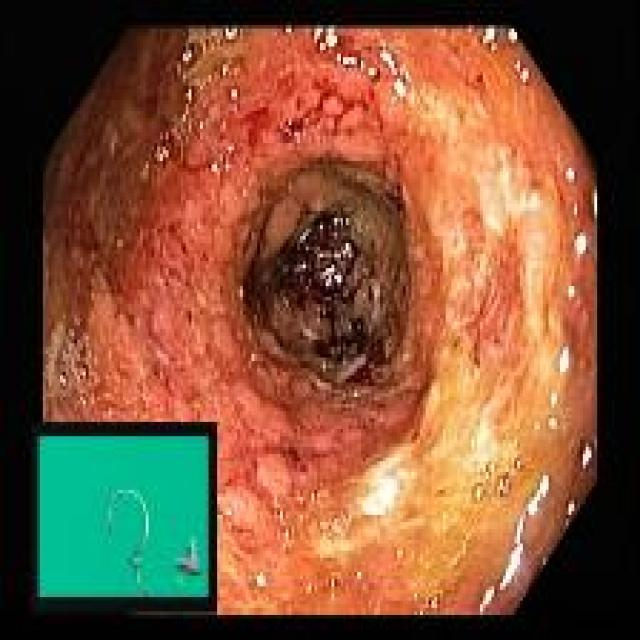ulcerative-colitis: (45, 27, 598, 615)
